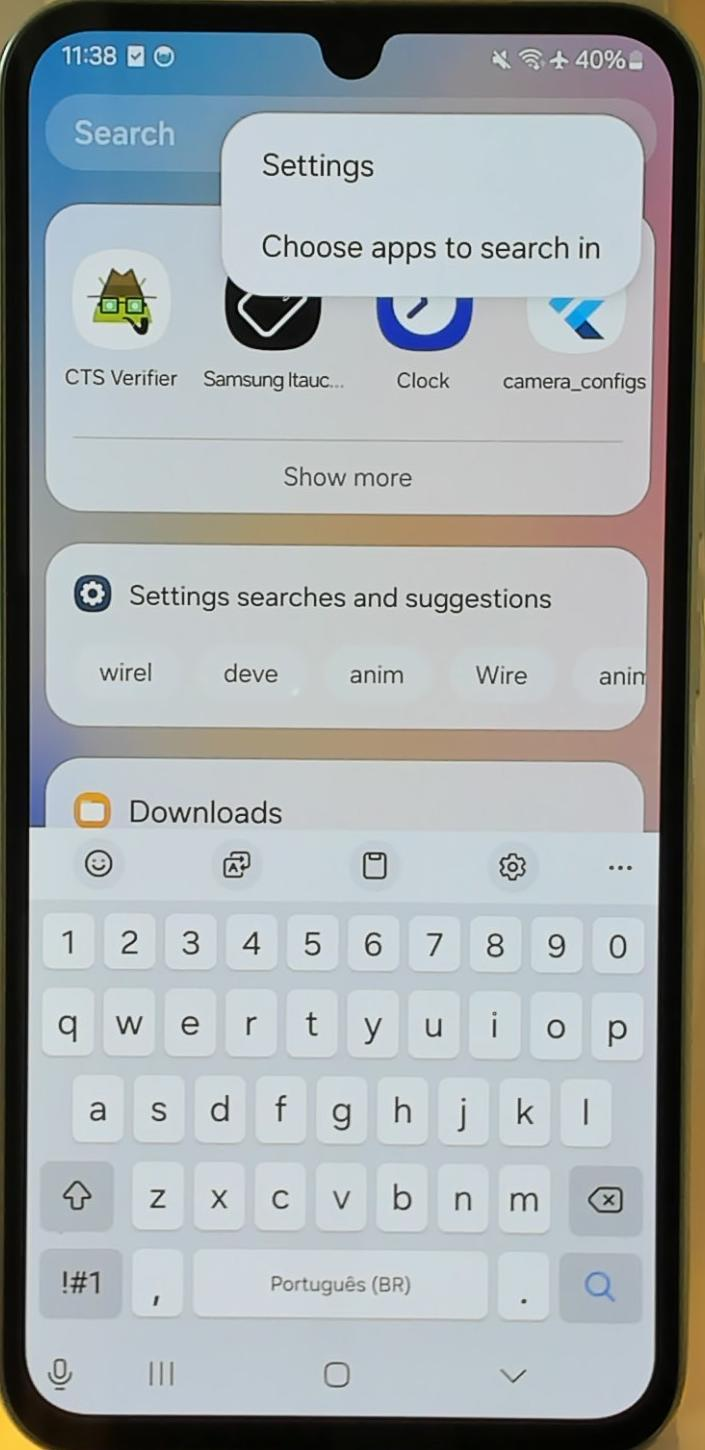TextKeyboard: (43, 915, 646, 1315)
